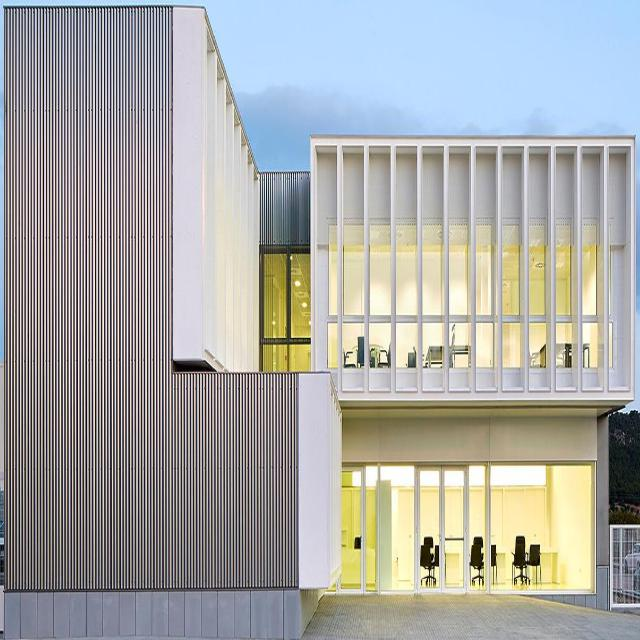door: (415, 461, 473, 596), (340, 458, 365, 596)
wall: (4, 5, 634, 639)
windows: (339, 459, 596, 592), (259, 245, 310, 370), (420, 226, 443, 368), (396, 229, 418, 367), (501, 221, 521, 372), (370, 223, 391, 364), (344, 224, 364, 366), (449, 227, 469, 367), (476, 225, 494, 371), (554, 225, 572, 370), (528, 224, 546, 365), (582, 226, 599, 369), (328, 220, 339, 367)
